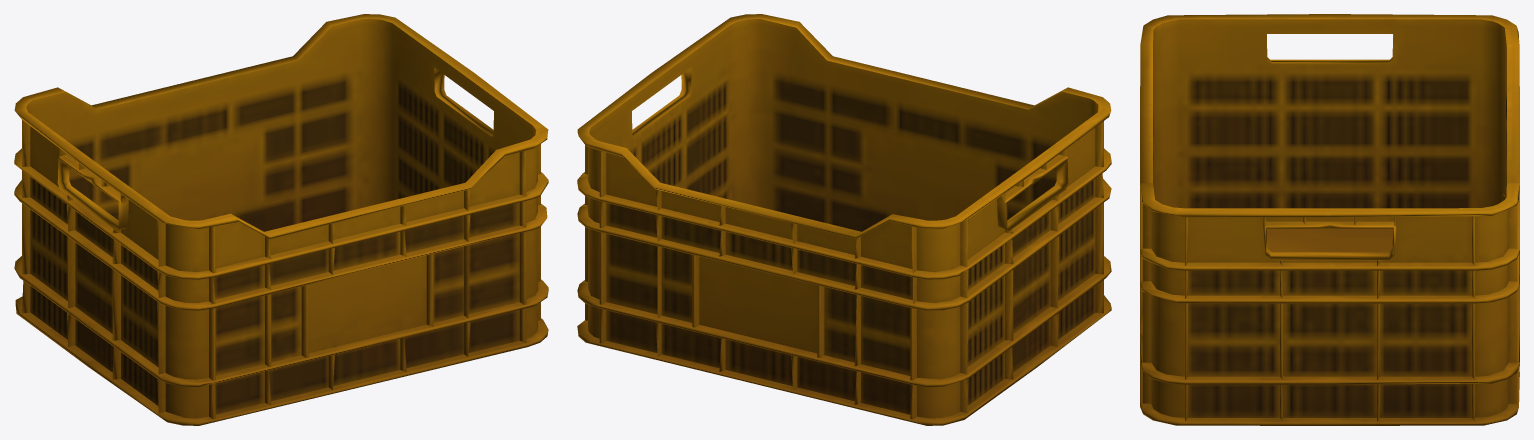
The model's file is plastic_crate_02.glb.
The picture shows the model from 3 angles, left to right: view 1: azimuth 30°, elevation 25°; view 2: azimuth 150°, elevation 25°; view 3: azimuth 270°, elevation 25°; orthographic projection. The views are drawn at different scales.
Visible parts, largest first — view 1: plastic_crate_02; view 2: plastic_crate_02; view 3: plastic_crate_02.
Part boxes in pixels (left/top/right/bottom): plastic_crate_02: left=14, top=14, right=548, bottom=425; plastic_crate_02: left=577, top=14, right=1111, bottom=425; plastic_crate_02: left=1140, top=14, right=1519, bottom=425.
Size of the model in its own units: 0.5055 by 0.2541 by 0.4055.
1 material, 1 textured.
